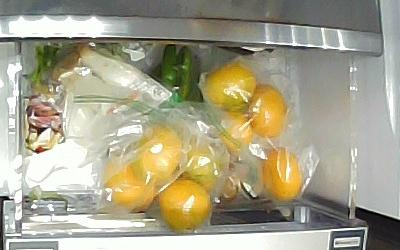tangerine_vinyl: (131, 121, 180, 183), (106, 152, 154, 215), (202, 59, 256, 113), (160, 180, 212, 232), (184, 137, 227, 198), (251, 84, 288, 142), (207, 110, 251, 158), (263, 148, 302, 202)
